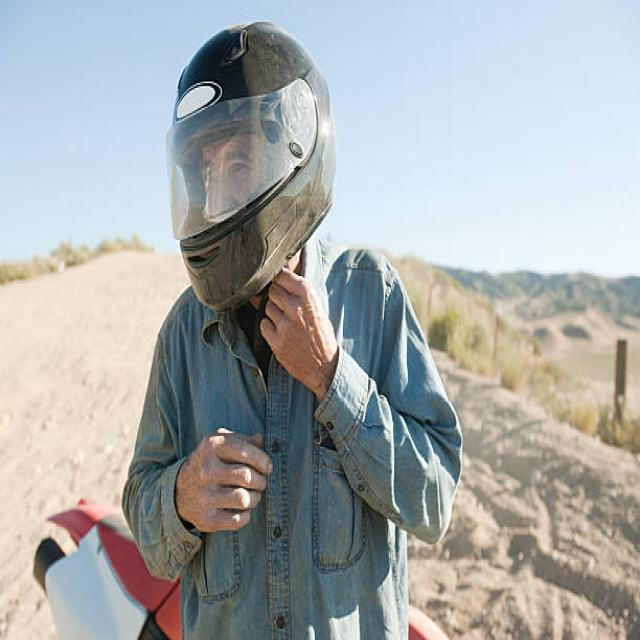with-helmet: (167, 11, 342, 318)
